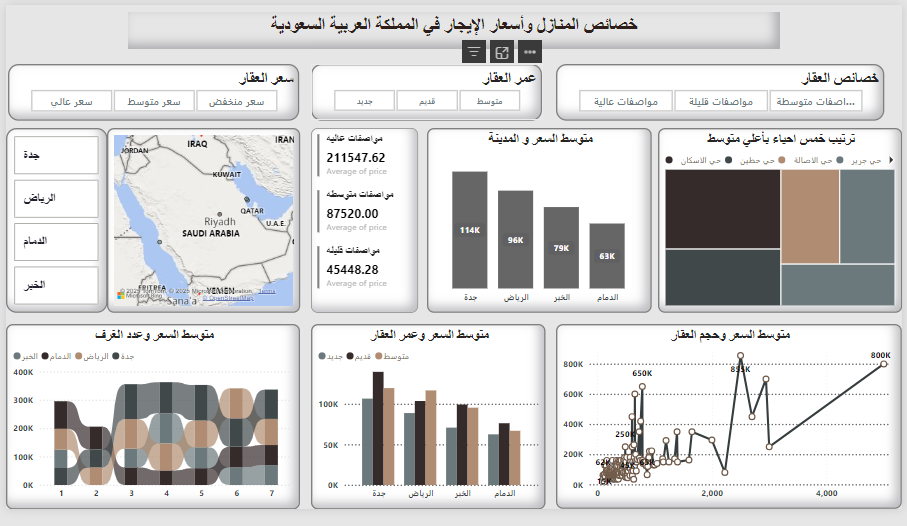

Layout of this report page (visuals, bound fields, positions):
{"tool":"powerbi","page":{"name":"Housing Price","canvas":[1280,720],"ordinal":0},"visuals":[{"type":"textbox","box":[174.3,10,931.4,52.9],"z":0},{"type":"columnChart","title":"متوسط السعر  و المدينة","fields":{"Category":["SA_Aqar (2).city"],"Y":["Avg(SA_Aqar (2).price)"]},"box":[601.5,176.2,320.7,264.3],"z":1000},{"type":"clusteredColumnChart","title":"متوسط السعر وعمر العقار","fields":{"Y":["Avg(SA_Aqar (2).price)"],"Series":["SA_Aqar (2).Property_Age_Category"],"Category":["SA_Aqar (2).city"]},"box":[436.3,455.6,335,265],"z":2000},{"type":"ribbonChart","title":"متوسط السعر وعدد الغرف ","fields":{"Category":["SA_Aqar (2).bedrooms"],"Y":["Avg(SA_Aqar (2).price)"],"Series":["SA_Aqar (2).city"]},"box":[0,455.6,420,265],"z":3000},{"type":"lineChart","title":"متوسط السعر وحجم العقار","fields":{"Category":["SA_Aqar (2).size"],"Y":["Avg(SA_Aqar (2).price)"]},"box":[785.7,455.7,494.3,264.3],"z":4000},{"type":"slicer","title":"سعر العقار","fields":{"Values":["SA_Aqar (2).Price Category"]},"box":[2.8,84,415.7,81.2],"z":5000},{"type":"map","fields":{"Category":["SA_Aqar (2).city"]},"box":[144.5,176.2,276,264.3],"z":6000},{"type":"advancedSlicerVisual","title":"City","fields":{"Values":["SA_Aqar (2).city"]},"box":[0,176.2,144.5,264.3],"z":7000},{"type":"slicer","title":"عمر العقار","fields":{"Values":["SA_Aqar (2).Property_Age_Category"]},"box":[436.3,84,330.3,81],"z":8000},{"type":"slicer","title":"خصائص العقار","fields":{"Values":["SA_Aqar (2).Property Category"]},"box":[785.9,84,469.3,81.2],"z":9000},{"type":"treemap","title":"ترتيب  خمس احياء بأعلي متوسط","fields":{"Group":["SA_Aqar (2).district"],"Values":["Avg(SA_Aqar (2).price)"]},"box":[931.4,175.7,348.6,264.3],"z":10000},{"type":"multiRowCard","fields":{"Values":["Avg(SA_Aqar (2).price)","SA_Aqar (2).Property Category"]},"box":[436.3,176.2,152.8,264.3],"z":11000}]}

Visuals, with their boxes in screenshot pixels (x1, y1, x2, y2):
textbox: bbox(127, 12, 777, 49)
"متوسط السعر  و المدينة" columnChart: bbox(425, 128, 649, 313)
"متوسط السعر وعمر العقار" clusteredColumnChart: bbox(310, 323, 544, 508)
"متوسط السعر وعدد الغرف " ribbonChart: bbox(5, 323, 298, 508)
"متوسط السعر وحجم العقار" lineChart: bbox(554, 323, 899, 508)
"سعر العقار" slicer: bbox(7, 63, 297, 120)
map - SA_Aqar (2).city: bbox(106, 128, 299, 313)
"City" advancedSlicerVisual: bbox(5, 128, 106, 313)
"عمر العقار" slicer: bbox(310, 63, 540, 120)
"خصائص العقار" slicer: bbox(554, 63, 882, 120)
"ترتيب  خمس احياء بأعلي متوسط" treemap: bbox(656, 127, 899, 312)
multiRowCard - Avg(SA_Aqar (2).price) x SA_Aqar (2).Property Category: bbox(310, 128, 416, 313)
